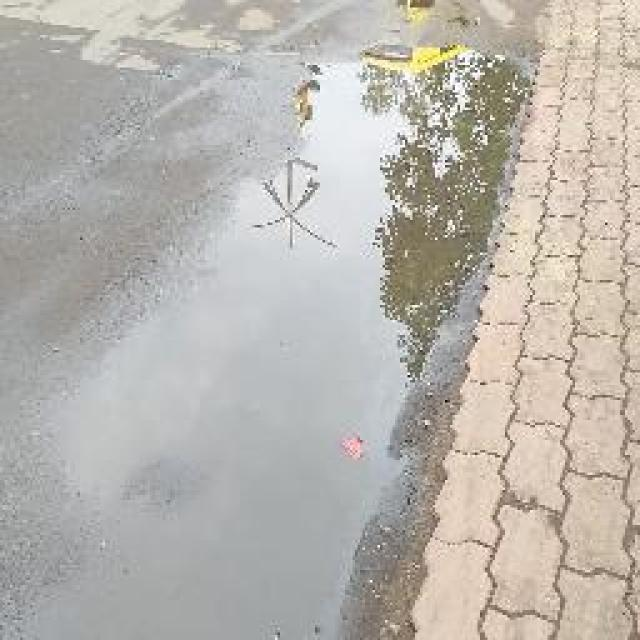puddle: (48, 49, 532, 640)
